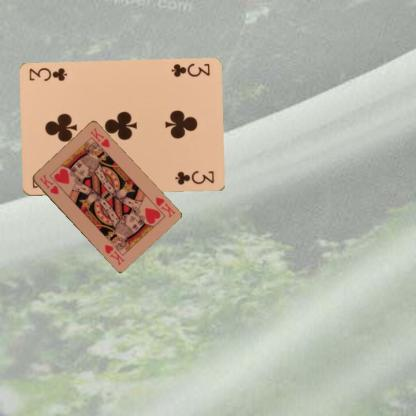3c: (168, 60, 211, 78)
Kh: (151, 194, 176, 219), (36, 171, 60, 196)
